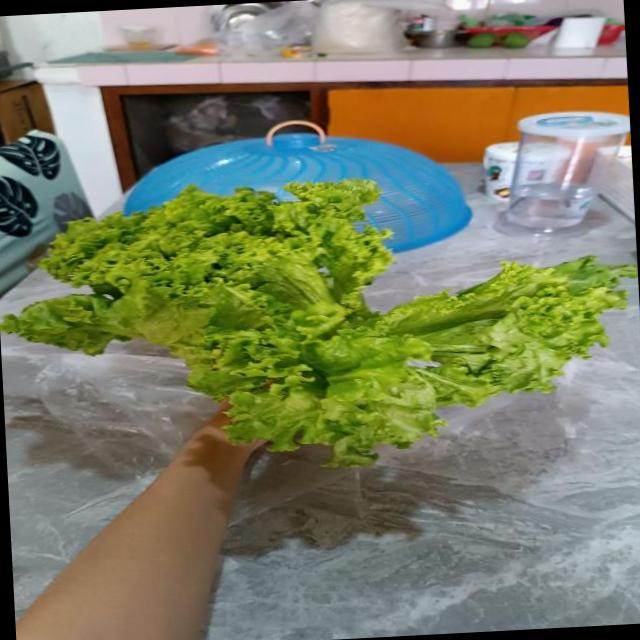Lettuce-Ready-to-Harvest: (0, 155, 640, 476)
